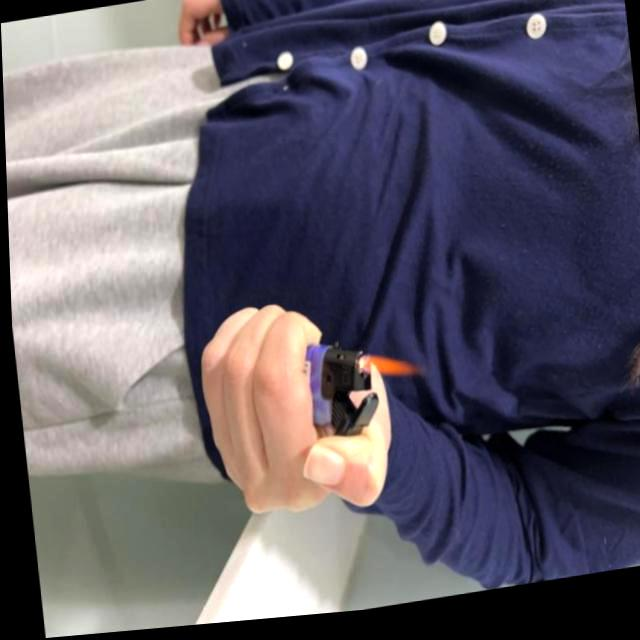fire: (353, 350, 421, 390)
